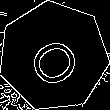O_NE: (21, 25, 87, 88)
